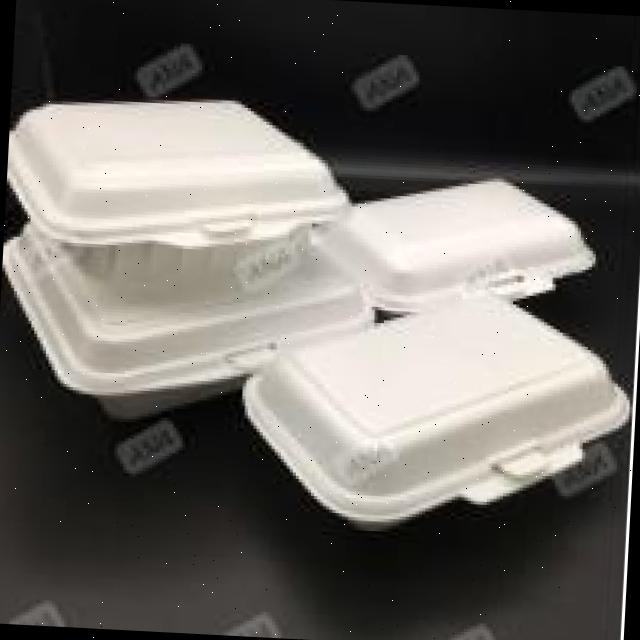styrofoam: (0, 82, 640, 539), (232, 274, 636, 541), (314, 163, 600, 324)
